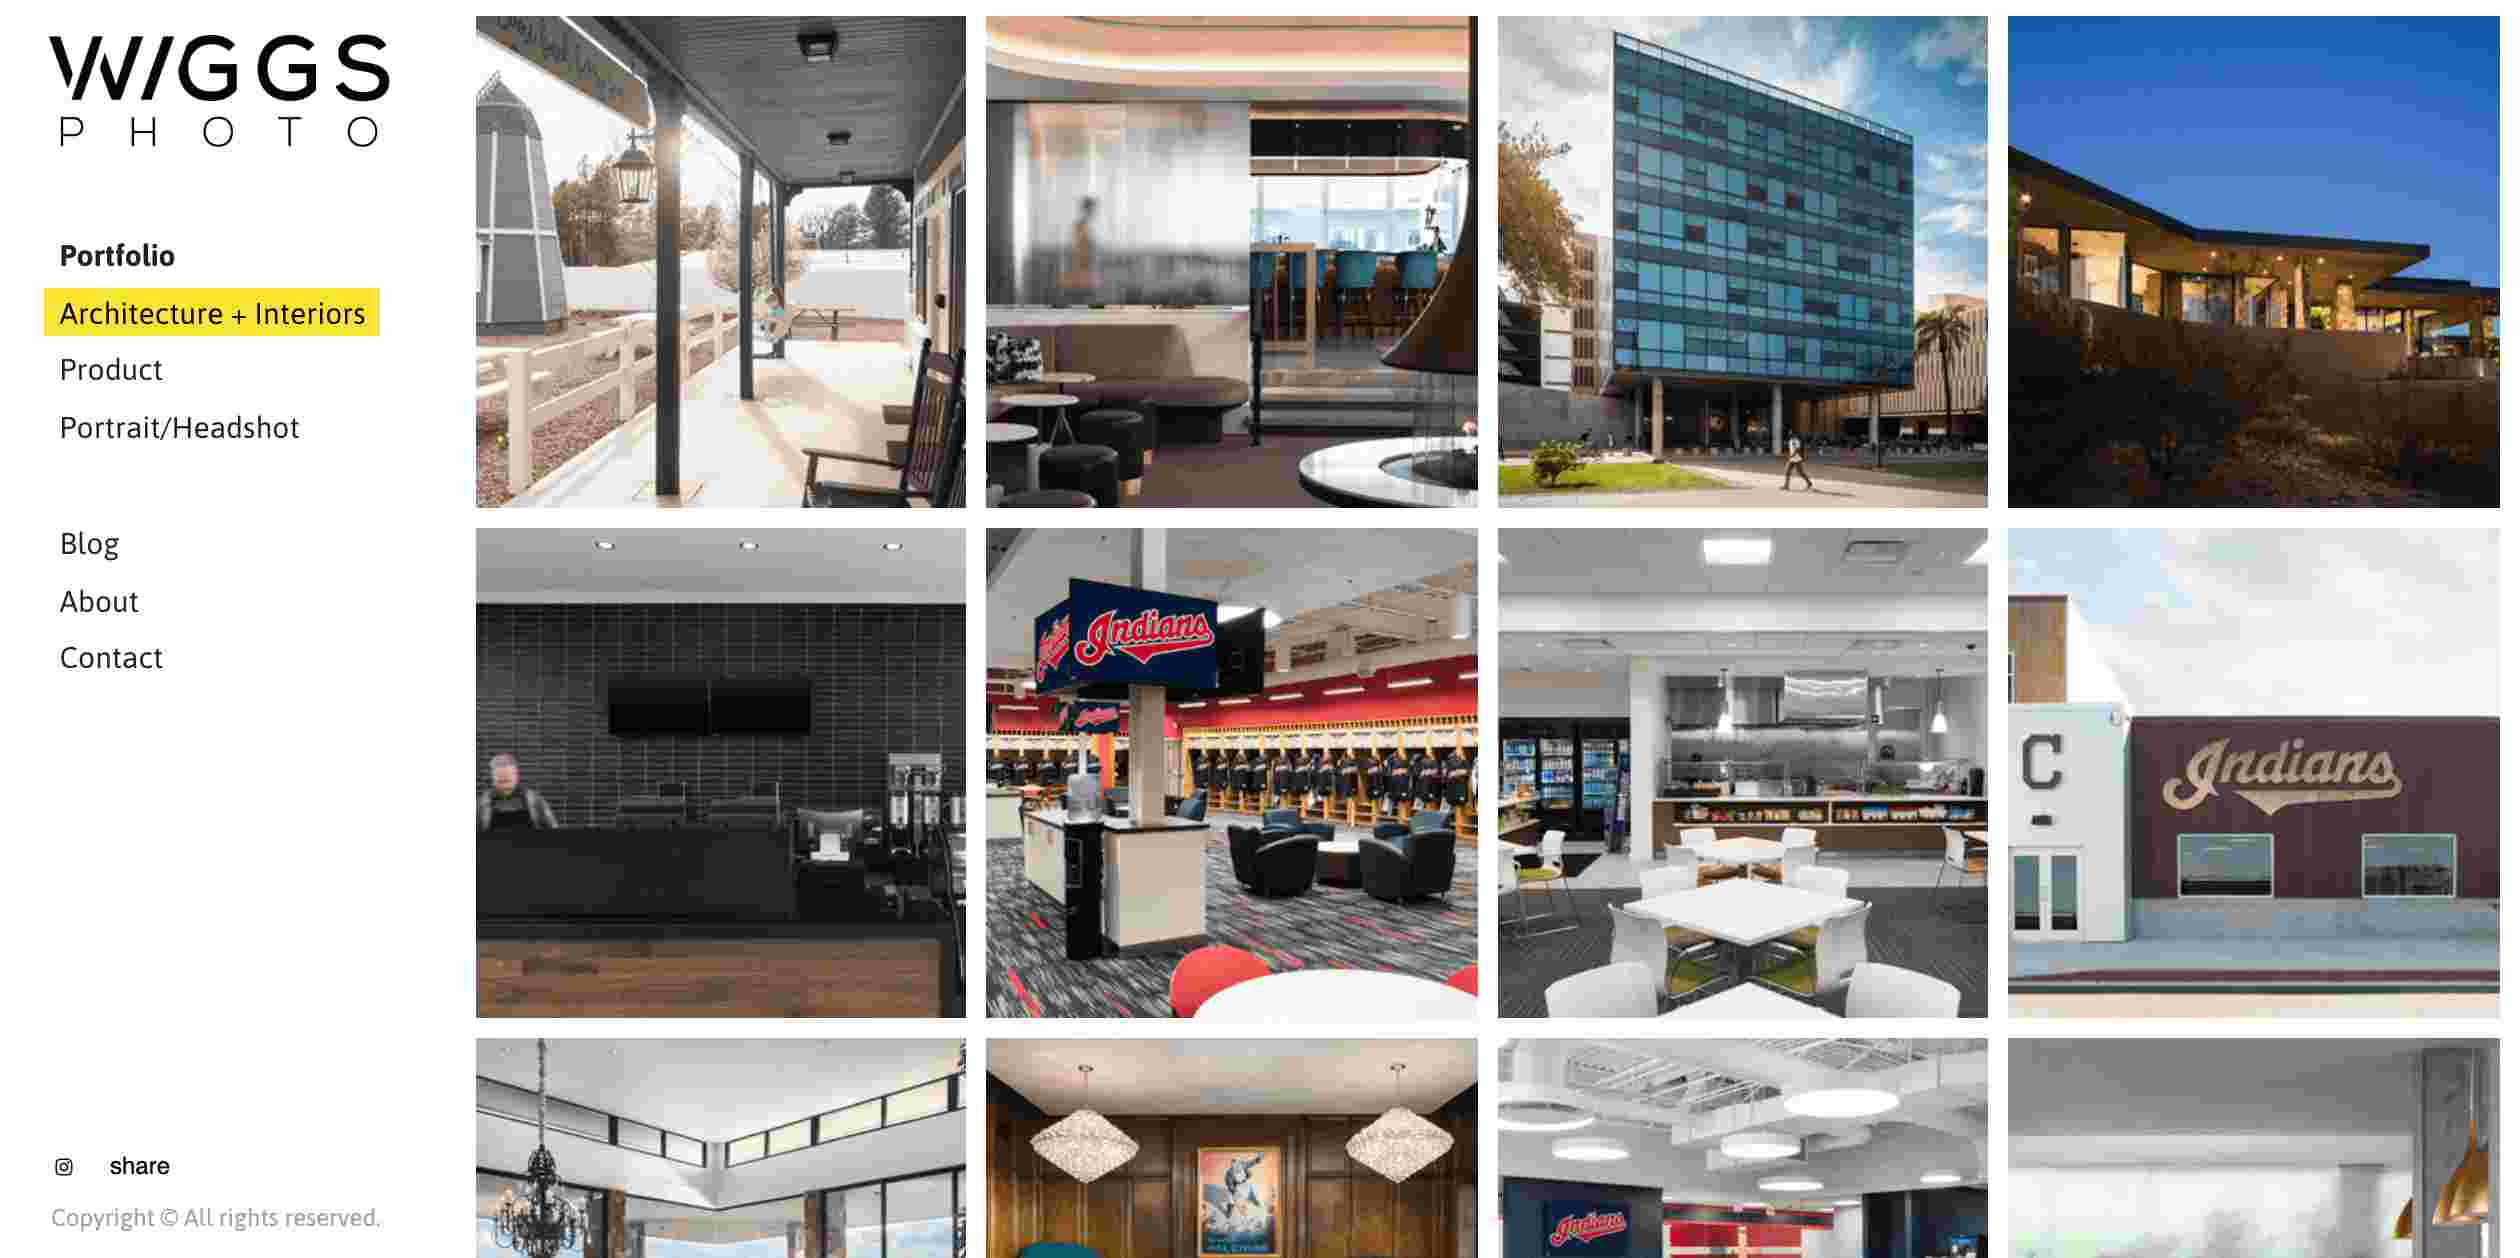Image: (980, 16, 1472, 506), (476, 16, 971, 503), (2007, 11, 2497, 500), (1490, 19, 1985, 503), (472, 525, 959, 1015), (985, 529, 1475, 1015), (2002, 514, 2494, 998), (1503, 537, 1977, 1015), (476, 1038, 971, 1256), (1996, 1043, 2494, 1250), (1503, 1049, 1977, 1256), (988, 1052, 1475, 1253)
Side Bar: (3, 0, 468, 1258)
